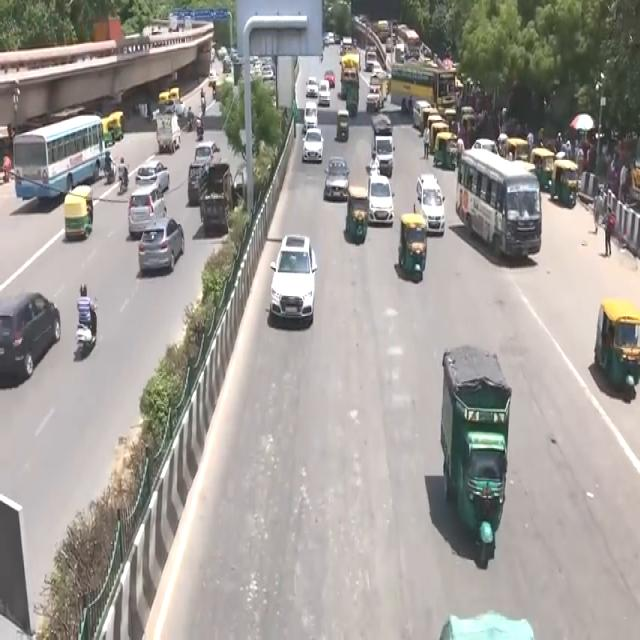BUS: (456, 150, 544, 265), (16, 114, 107, 210), (392, 61, 441, 113)
